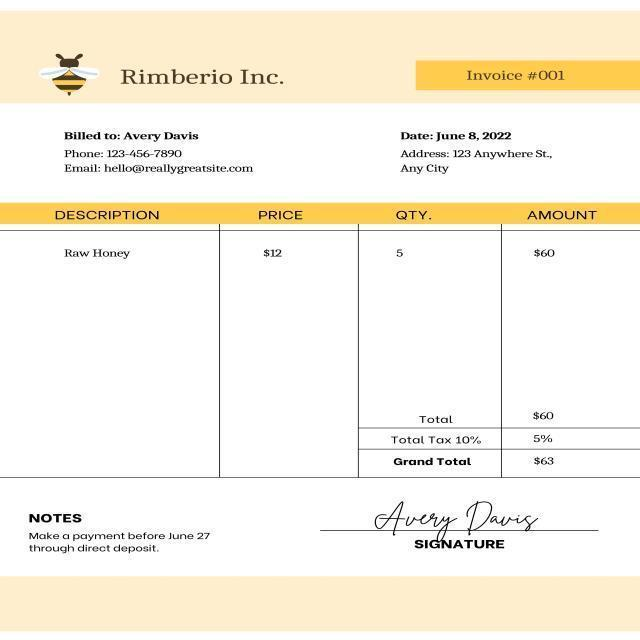paragraph: (302, 498, 576, 566), (372, 403, 597, 473), (49, 119, 278, 179), (21, 504, 230, 566), (377, 128, 576, 191), (119, 57, 289, 96), (28, 39, 103, 106), (457, 66, 598, 100)
table: (42, 201, 630, 274)
